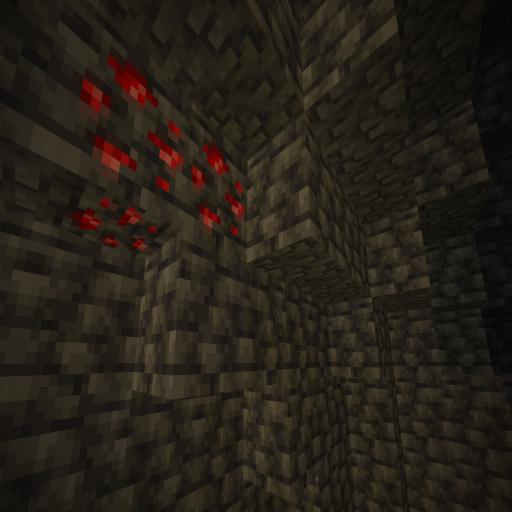redstone ore: (68, 48, 254, 258)
